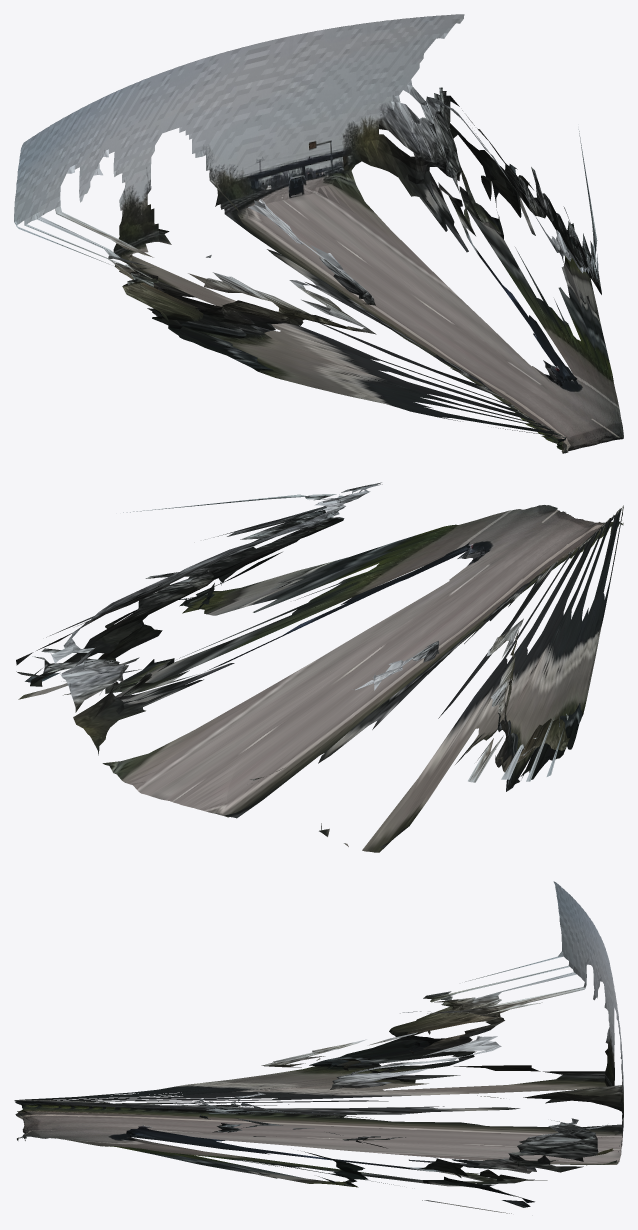
3 renders of one model, top to bottom at view 1: azimuth 30°, elevation 25°; view 2: azimuth 150°, elevation 25°; view 3: azimuth 270°, elevation 25°, orthographic. The views are drawn at different scales.
Parts seen in each view (by area): view 1: defaultobject; view 2: defaultobject; view 3: defaultobject.
Boxes of the visible parts, <box> form: defaultobject: <box>14,14,623,453</box>; defaultobject: <box>16,482,623,852</box>; defaultobject: <box>14,881,623,1213</box>.
Bounding box in the file's own units: 36.43 × 12.78 × 44.85.
1 material, 1 textured.
